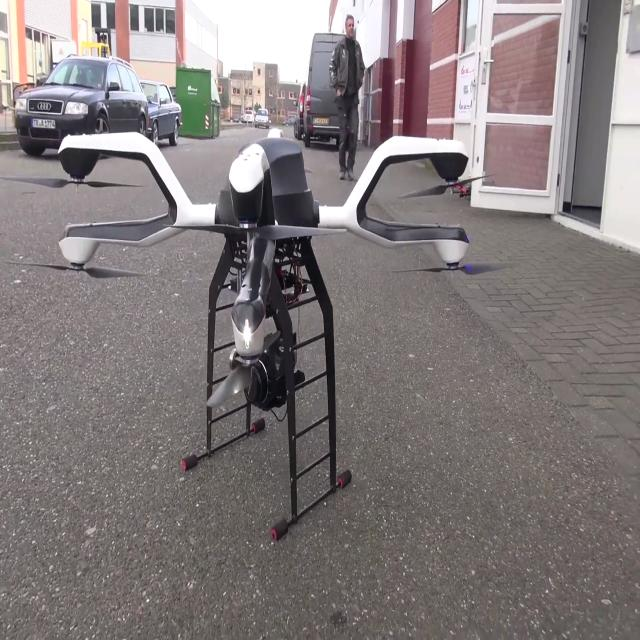drone: (36, 84, 543, 512)
